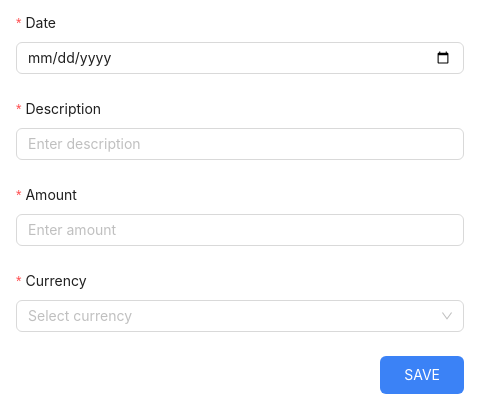
TransactionForm › validates required fields and prevents submission
Click the button "SAVE" at (422, 375), box [380,356,464,394]
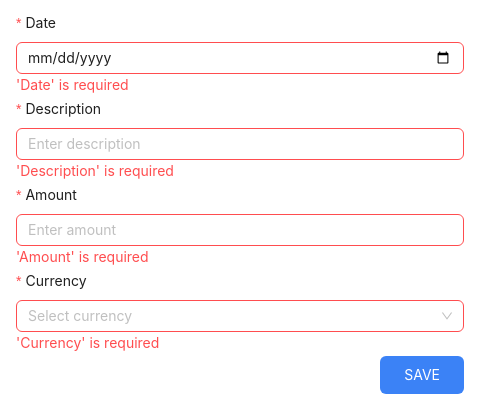
Check: the text "'Date' is required" is shown 4 times, box [16,76,129,93]; [16,162,174,179]; [16,248,149,265]; [16,334,159,351]
